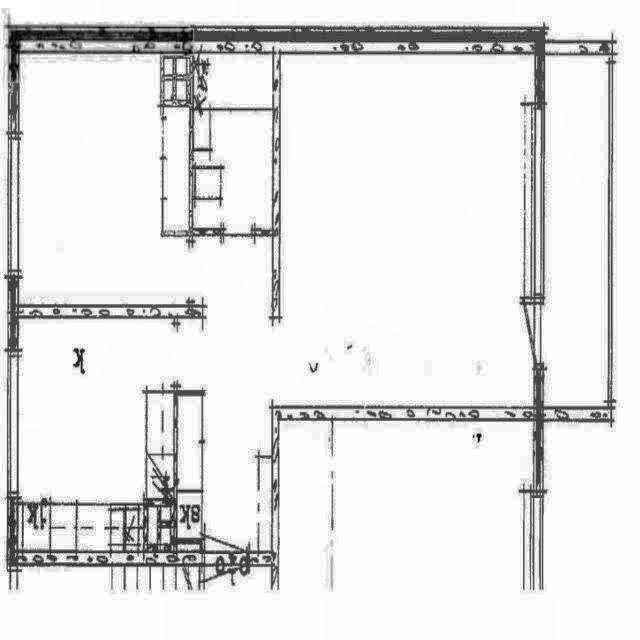room: (193, 54, 272, 229)
